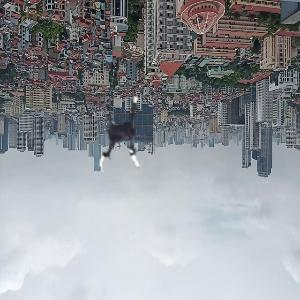drone: (84, 96, 172, 184)
